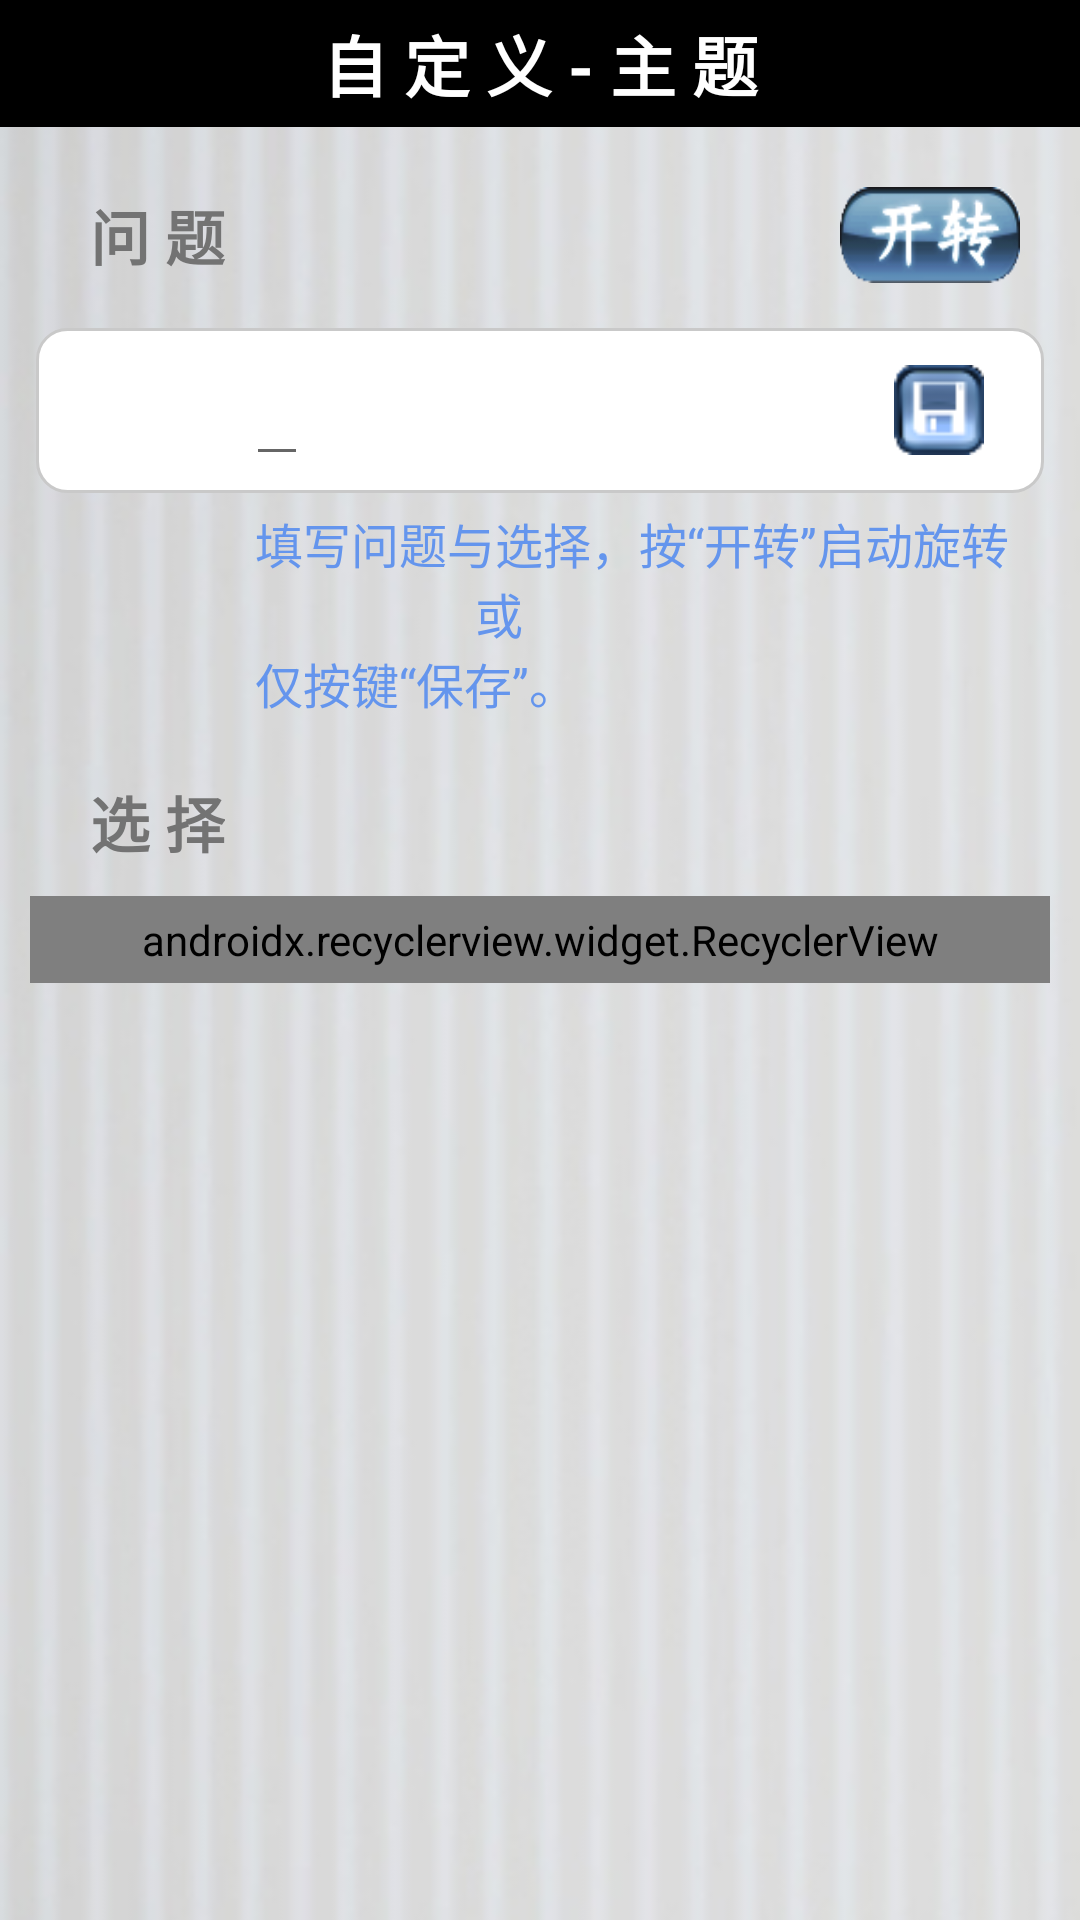

Point at icon controls on the screen. Image size 1080 × 1920, points as (x,y).
save: (939,410)
